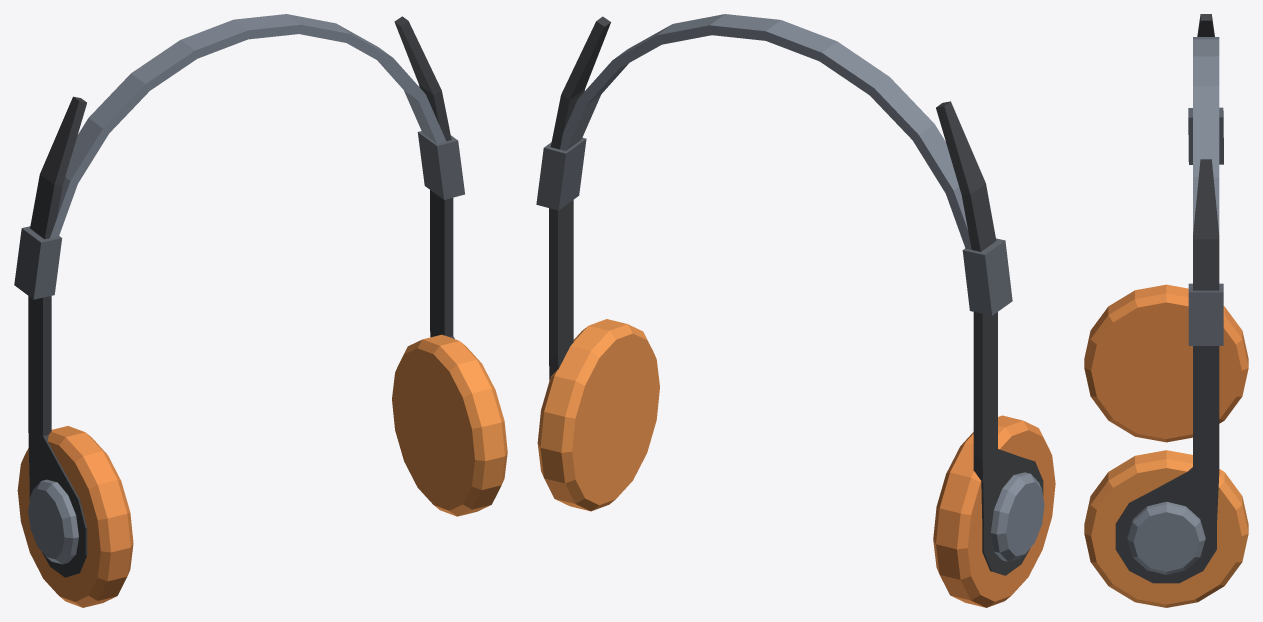
The model's file is Headphones.fbx.
The picture shows the model from 3 angles, left to right: view 1: azimuth 30°, elevation 25°; view 2: azimuth 150°, elevation 25°; view 3: azimuth 270°, elevation 25°; orthographic projection. The views are drawn at different scales.
Visible parts, largest first — view 1: Circle.026; view 2: Circle.026; view 3: Circle.026.
Boxes of the visible parts, x1,y1,x2,y2 form: Circle.026: (14, 14, 507, 607); Circle.026: (536, 14, 1055, 607); Circle.026: (1084, 14, 1248, 607).
Size of the model in its own units: 0.5022 by 0.1822 by 0.5677.
